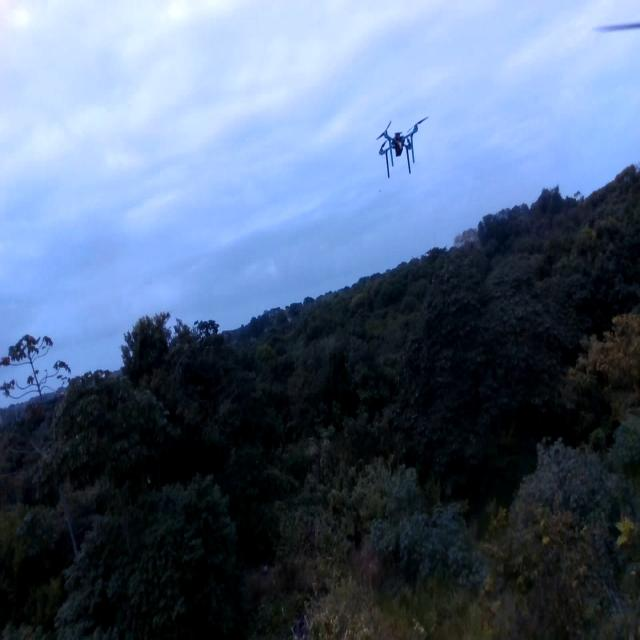-uav-: (366, 108, 436, 185)
